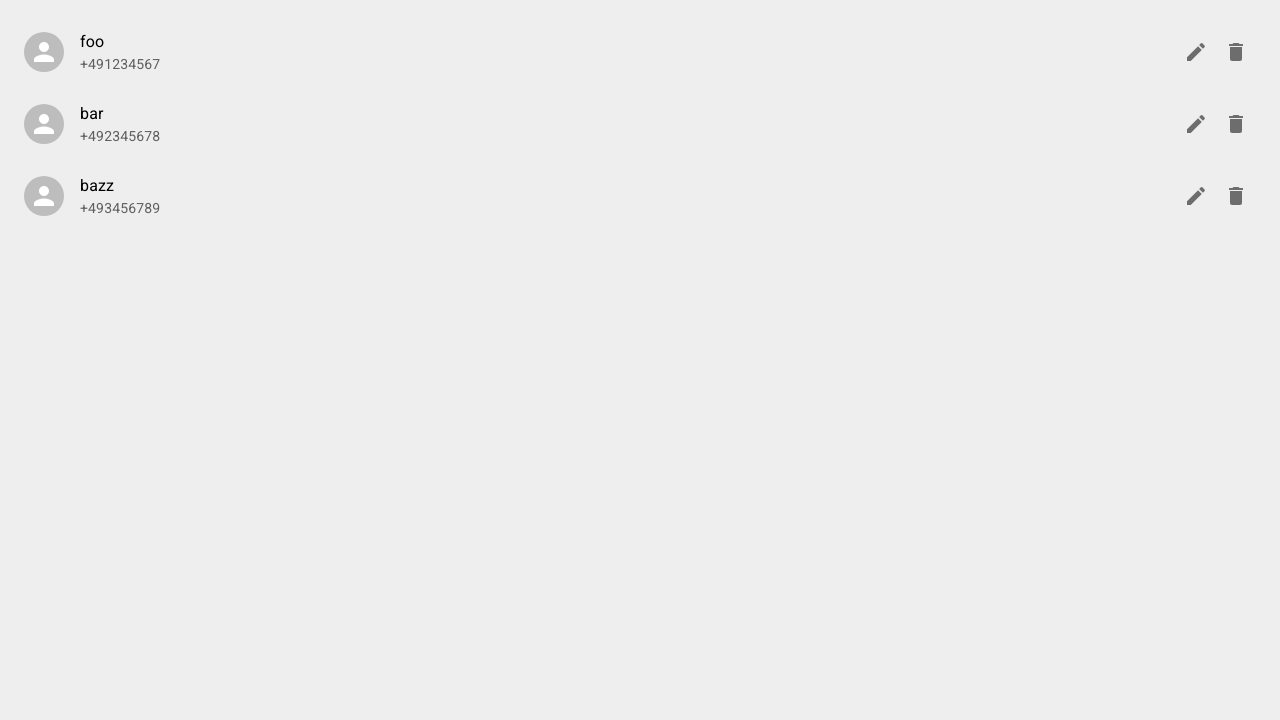
Test: opens the delete dialog when clicking on delete
Click the button without text in the row of "foo": (1236, 52) [1216,32,1256,72]
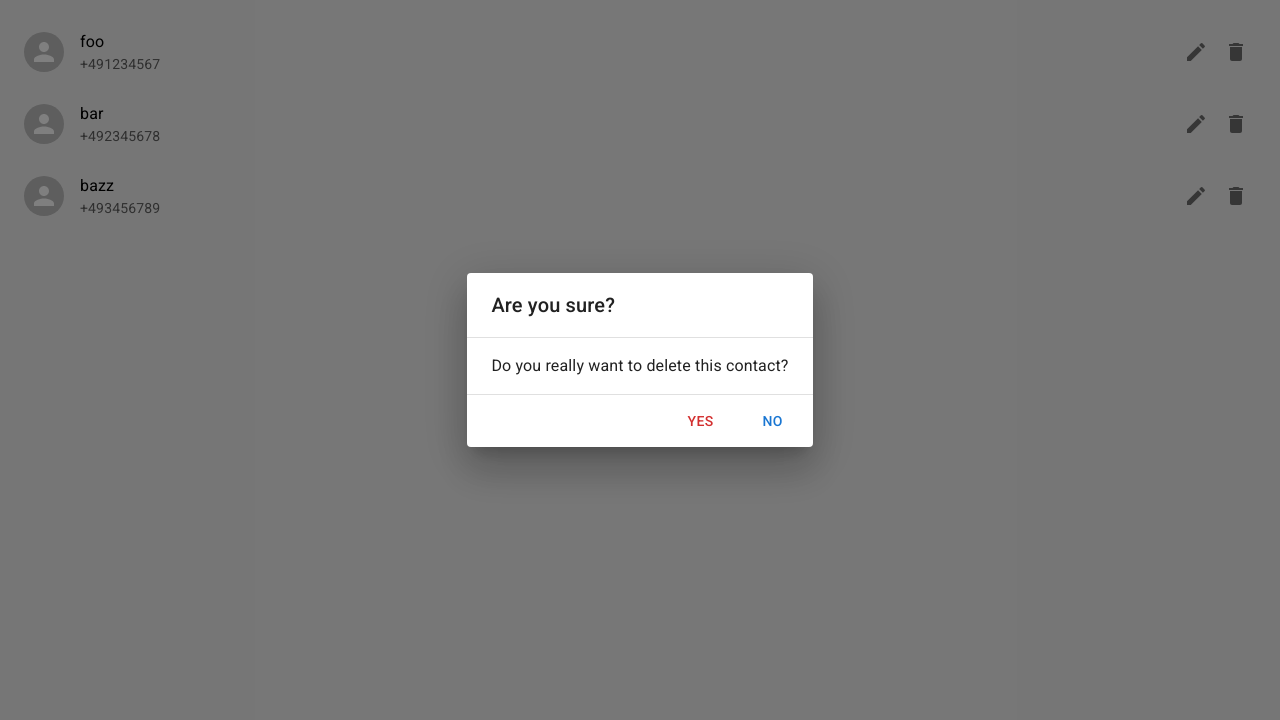
Check: the heading "Are you sure?" is shown, box [491,293,615,317]
